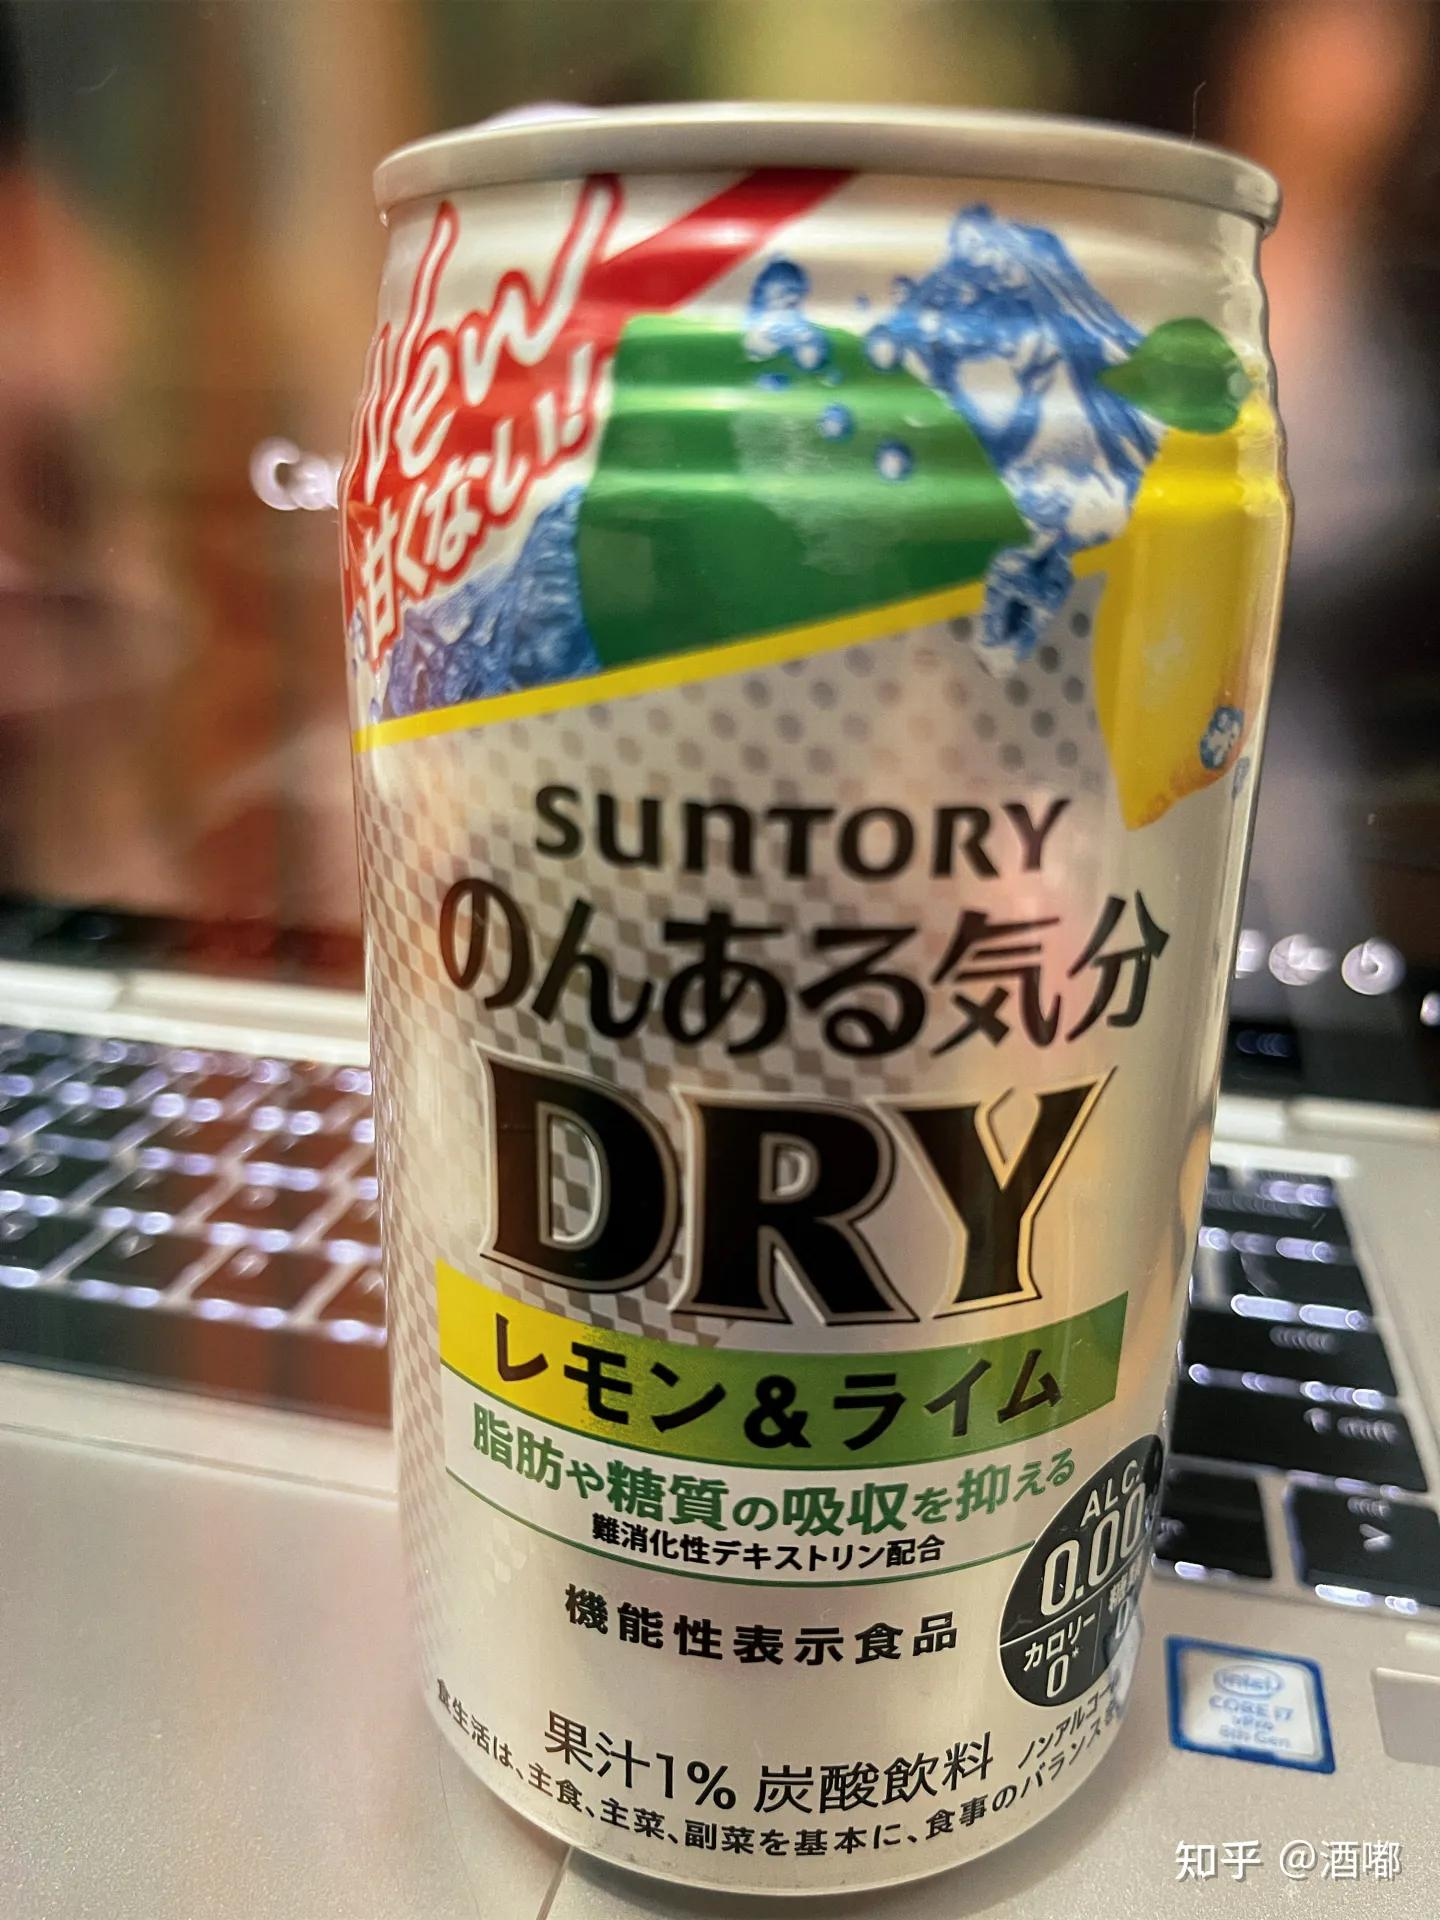metal: (330, 97, 1308, 1899)
